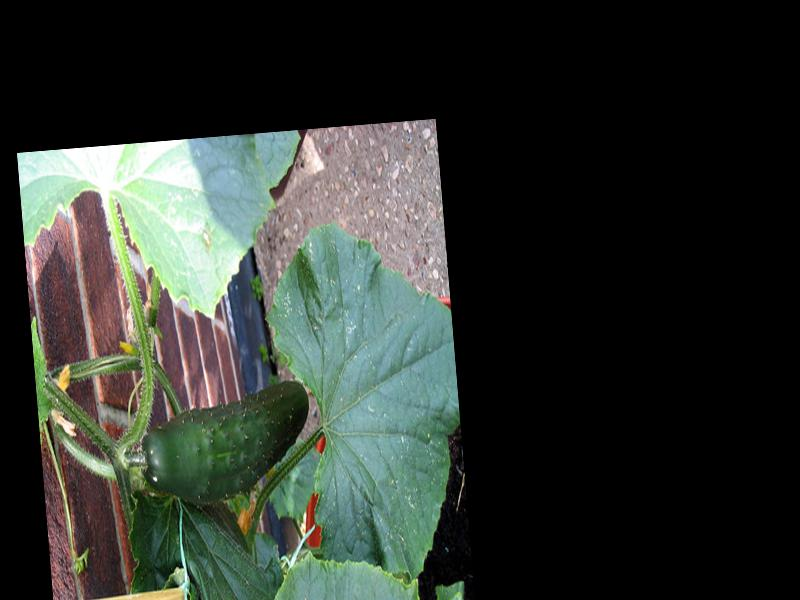Cucumber: (136, 376, 316, 507)
